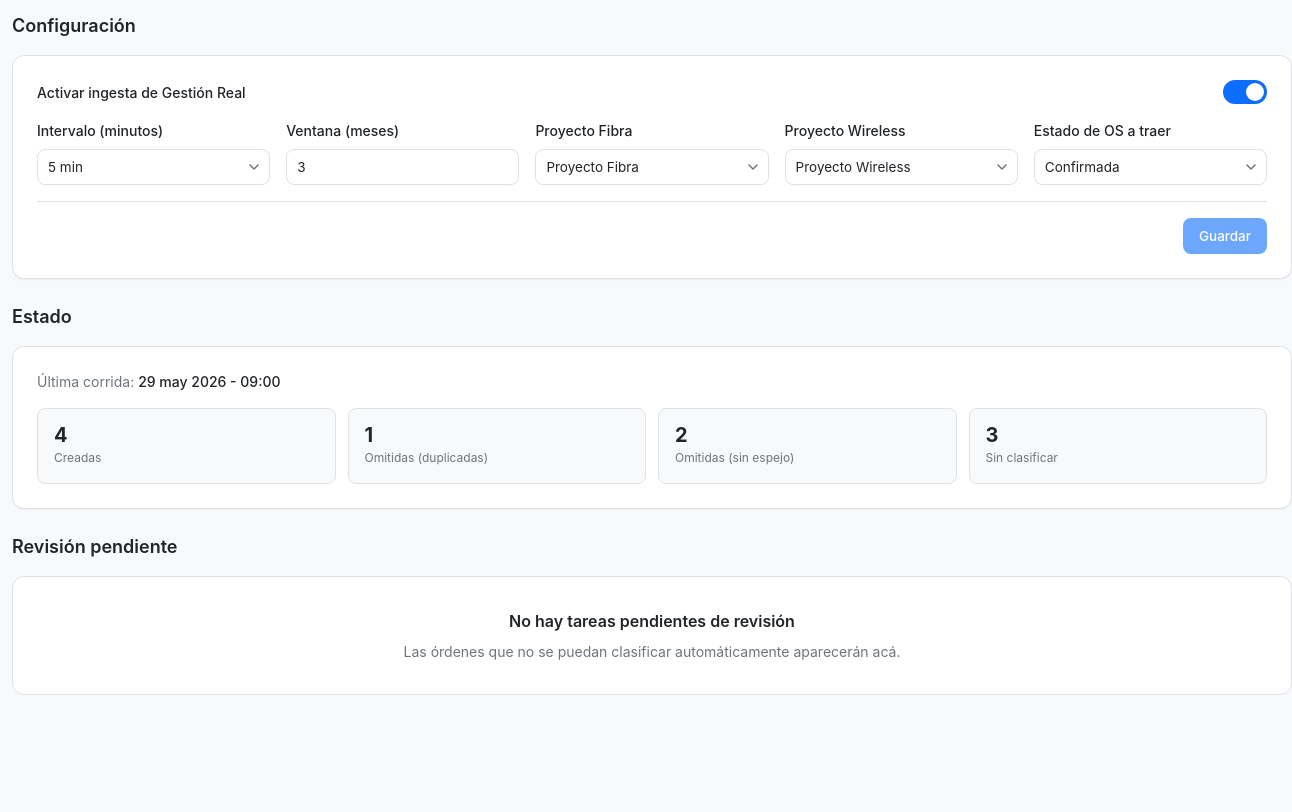
Test case: GestionRealBody › Estado de OS a traer (sourceEstado) › changing the estado enables Guardar
expect the button "Guardar" is disabled: met, box [1183,218,1267,254]
Select "Cerrada" in the dropdown labelled "Estado de OS a traer" at x=1150, y=167, box [1034,149,1267,185]
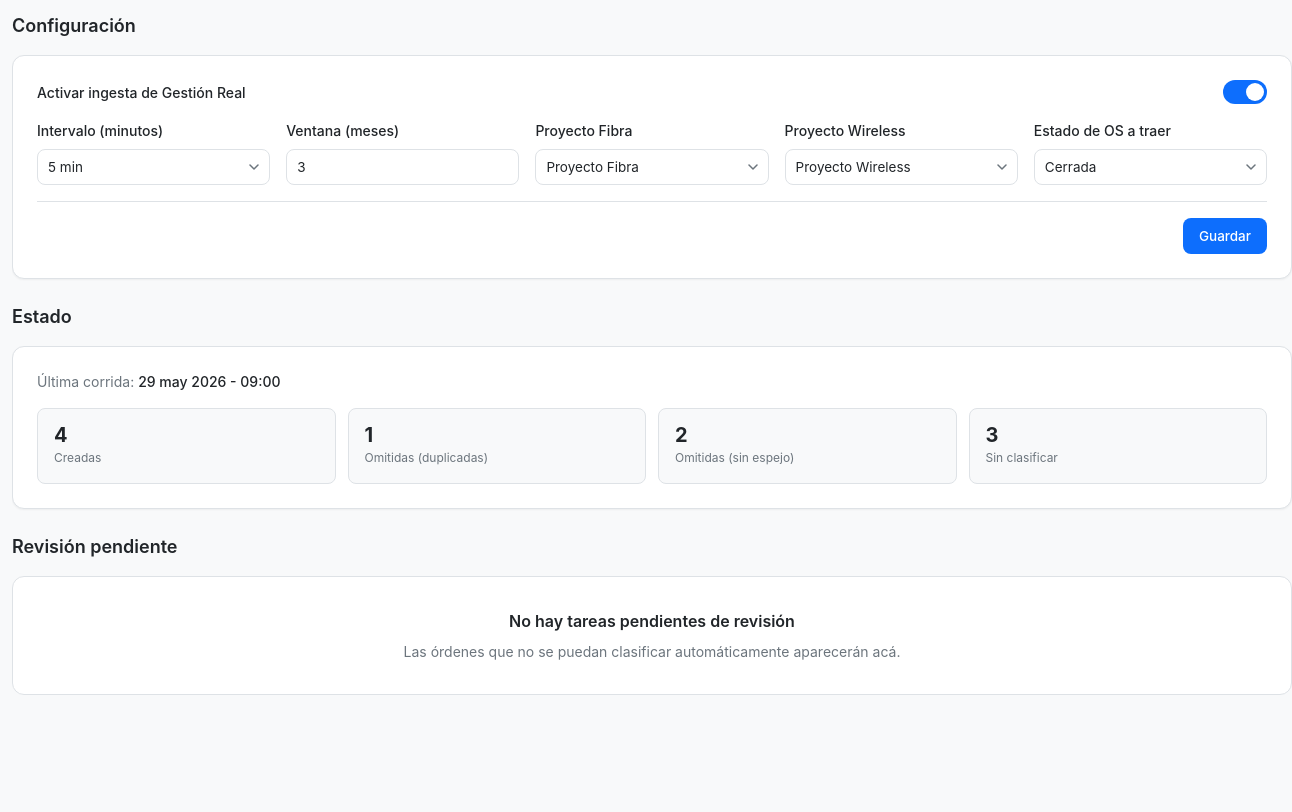
expect the button "Guardar" is enabled: met, box [1183,218,1267,254]
